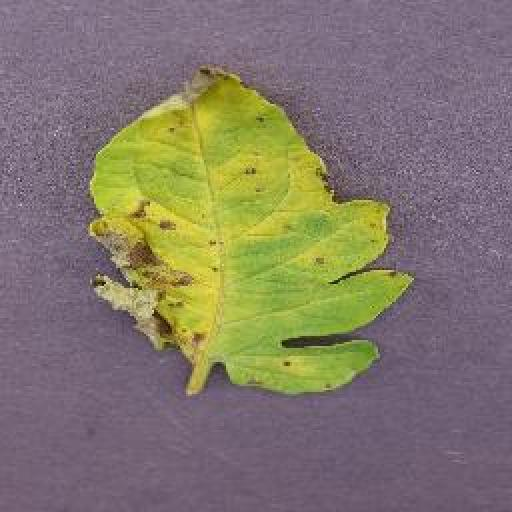Septoria: (91, 67, 416, 397)
